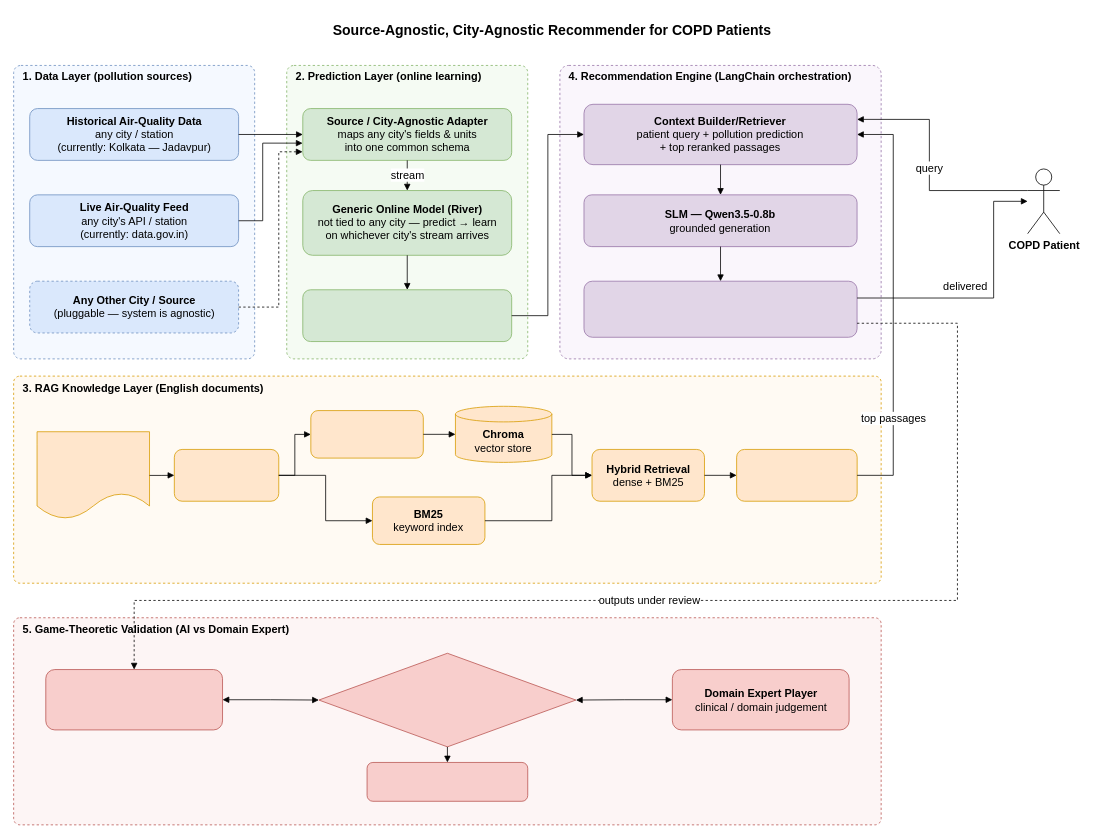
Some shapes in this 1104 by 838 pixel diagram are drawn without their labels. The centre of each missing label's shape, as x and y in pixels:
"AI Player system's predictions / recommendations" belongs at [134,699].
"COPD Documents (English)" belongs at [93,475].
"Dense Embeddings bge-small" belongs at [366,434].
"Game-Theoretic Arena (possibly adversarial) compete over validity of predictions" belongs at [447,699].
"Information Recommendations for the COPD patient" belongs at [720,308].
"Load & Chunk (LangChain)" belongs at [226,475].
"Pollution Prediction (exposure / risk for the patient's city)" belongs at [407,315].
"Reranker bge reranker" belongs at [796,475].
"Validated Predictions" belongs at [447,781].
